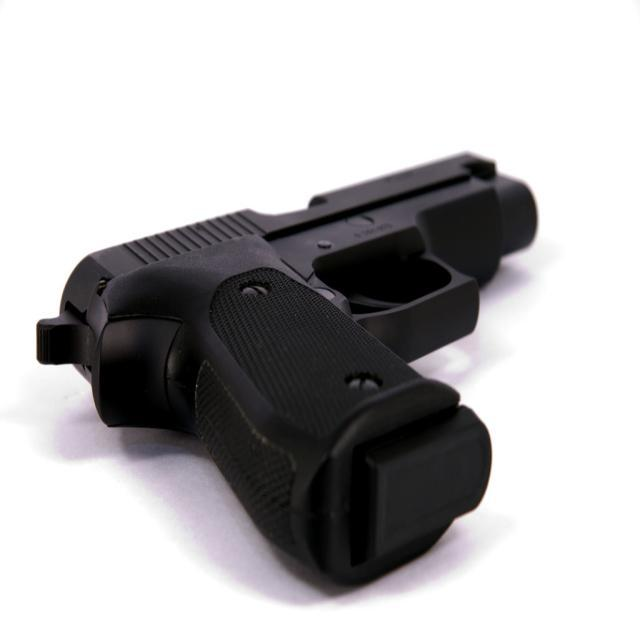Gun: (37, 152, 540, 593)
